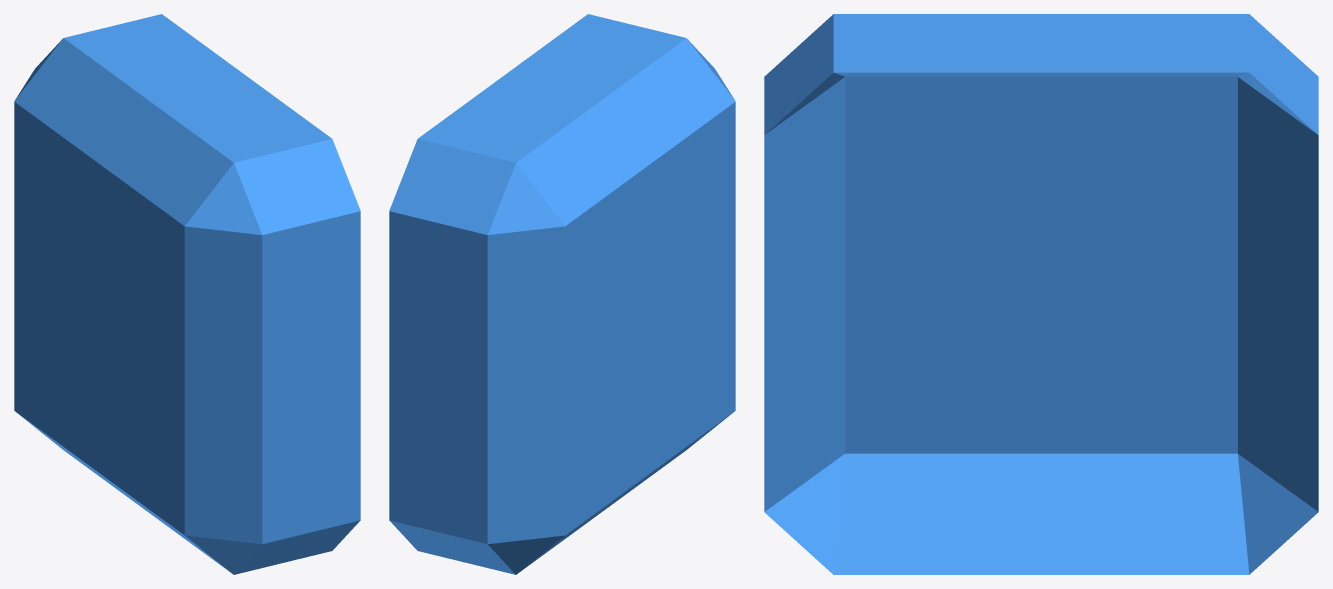
The model's file is Shield.fbx.
3 views of the same model, side by side, from view 1: azimuth 30°, elevation 25°; view 2: azimuth 150°, elevation 25°; view 3: azimuth 270°, elevation 25° (orthographic). The views are drawn at different scales.
Parts seen in each view (by area): view 1: beveled_cuboid; view 2: beveled_cuboid; view 3: beveled_cuboid.
Boxes of the visible parts, x1=… form: beveled_cuboid: x1=14, y1=14, x2=360, y2=574; beveled_cuboid: x1=389, y1=14, x2=735, y2=574; beveled_cuboid: x1=764, y1=14, x2=1318, y2=574.
Size of the model in its own units: 600 by 1600 by 1600.
1 material, 1 textured.
